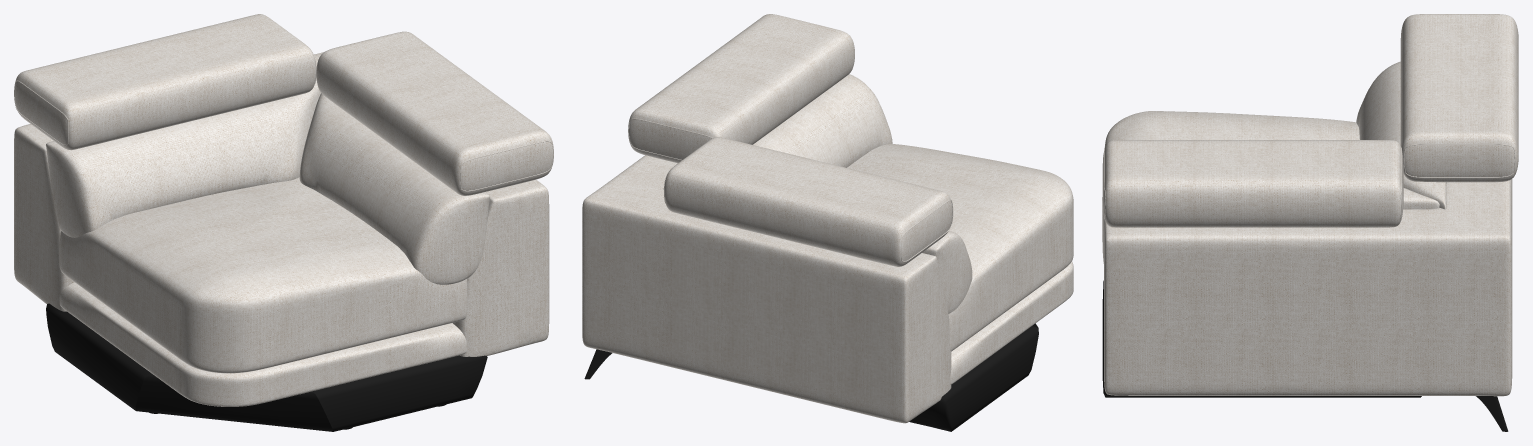
Rendered from corner.glb.
The picture shows the model from 3 angles, left to right: view 1: azimuth 30°, elevation 25°; view 2: azimuth 150°, elevation 25°; view 3: azimuth 270°, elevation 25°; orthographic projection. The views are drawn at different scales.
Size of the model in its own units: 1.09 by 0.7498 by 1.08.
5 materials, 1 textured.
